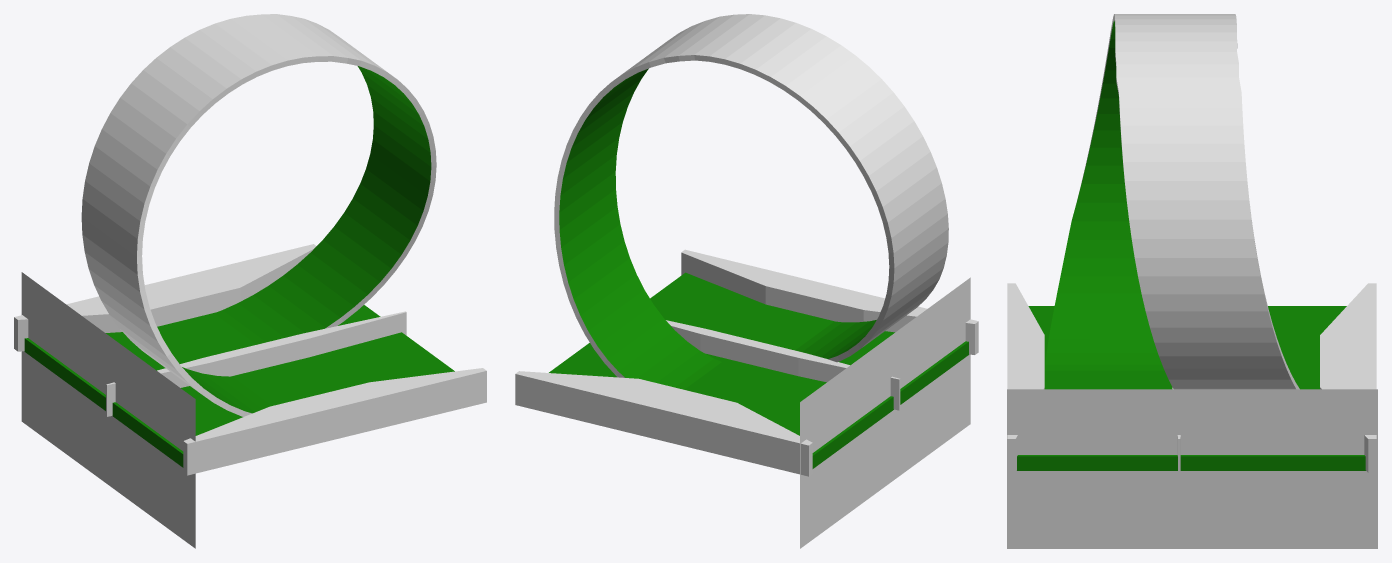
Rendered from loopdeloop.glb.
The picture shows the model from 3 angles, left to right: view 1: azimuth 30°, elevation 25°; view 2: azimuth 150°, elevation 25°; view 3: azimuth 270°, elevation 25°; orthographic projection. The views are drawn at different scales.
Parts seen in each view (by area): view 1: Circle, obj_snap.002, Cube, Cube.003, Cube.004, Cube.005; view 2: Circle, obj_snap.002, Cube, Cube.004, Cube.003, Cube.005; view 3: Circle, obj_snap.003, Cube, Cube.004, Cube.003.
Part boxes in pixels (left/top/right/bottom): Circle: left=81, top=14, right=436, bottom=416; obj_snap.002: left=21, top=272, right=195, bottom=548; Cube: left=24, top=305, right=454, bottom=467; Cube.003: left=183, top=368, right=486, bottom=475; Cube.004: left=14, top=244, right=316, bottom=351; Cube.005: left=106, top=311, right=406, bottom=416; Circle: left=554, top=14, right=948, bottom=389; obj_snap.002: left=800, top=277, right=970, bottom=548; Cube: left=549, top=272, right=968, bottom=468; Cube.004: left=515, top=371, right=812, bottom=476; Cube.003: left=681, top=249, right=978, bottom=354; Cube.005: left=666, top=320, right=900, bottom=410; Circle: left=1045, top=14, right=1299, bottom=389; obj_snap.003: left=1007, top=389, right=1377, bottom=548; Cube: left=1017, top=306, right=1365, bottom=470; Cube.004: left=1320, top=283, right=1376, bottom=472; Cube.003: left=1007, top=283, right=1044, bottom=472.
Size of the model in its own units: 4.48 by 5.56 by 4.21.
